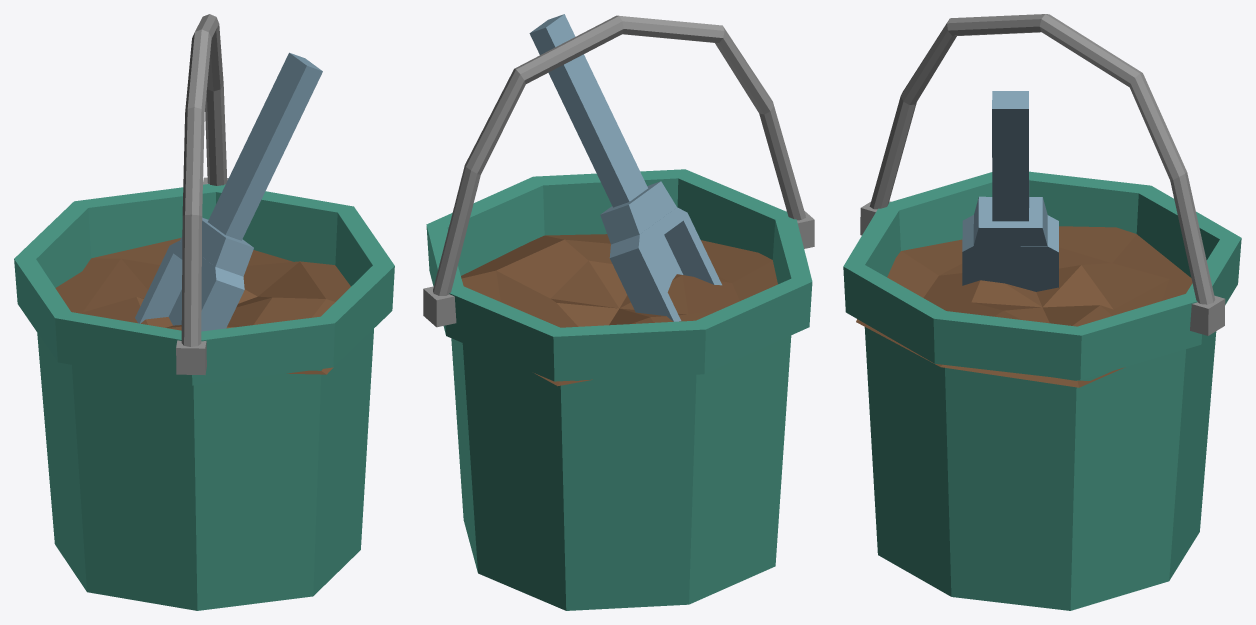
File: Bucket_1.fbx
The picture shows the model from 3 angles, left to right: view 1: azimuth 30°, elevation 25°; view 2: azimuth 150°, elevation 25°; view 3: azimuth 270°, elevation 25°; orthographic projection. The views are drawn at different scales.
Visible parts, largest first — view 1: Bucket_1; view 2: Bucket_1; view 3: Bucket_1.
Boxes of the visible parts, bbox=[...] form: Bucket_1: bbox=[14, 14, 394, 610]; Bucket_1: bbox=[423, 14, 814, 610]; Bucket_1: bbox=[843, 14, 1241, 610].
Bounding box in the file's own units: 49.35 × 49.35 × 72.42.
